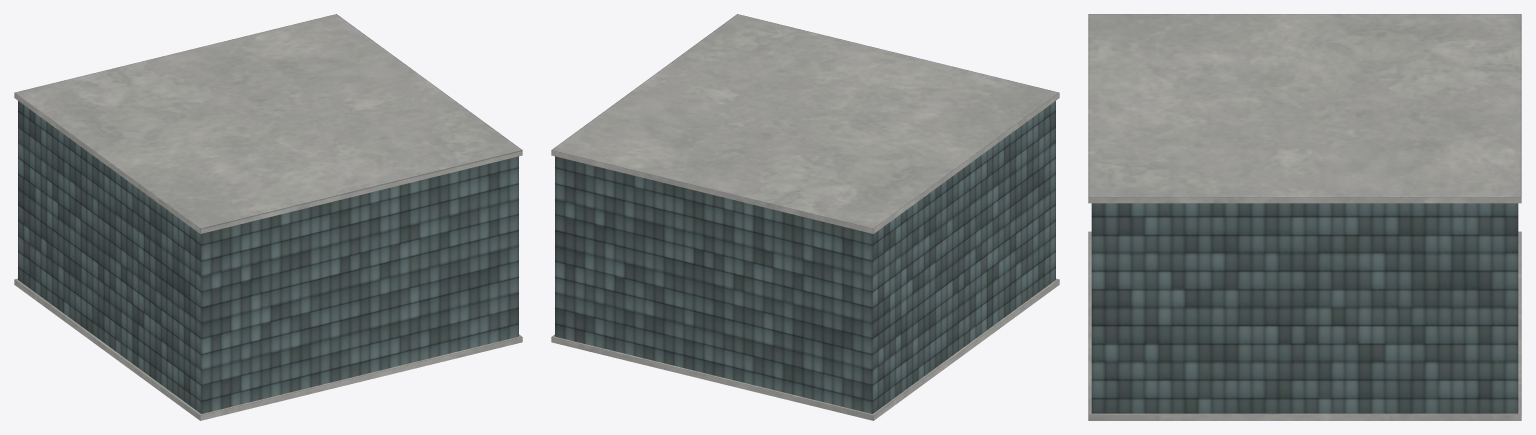
The model's file is building_08.2.glb.
3 renders of one model, left to right at view 1: azimuth 30°, elevation 25°; view 2: azimuth 150°, elevation 25°; view 3: azimuth 270°, elevation 25°, orthographic. The views are drawn at different scales.
Parts seen in each view (by area): view 1: building_08.2; view 2: building_08.2; view 3: building_08.2.
Part boxes in pixels (x1,y1,x2,y2): building_08.2: [14, 14, 522, 420]; building_08.2: [551, 14, 1059, 420]; building_08.2: [1088, 14, 1521, 420].
Size of the model in its own units: 65 by 37 by 65.
1 material, 1 textured.
